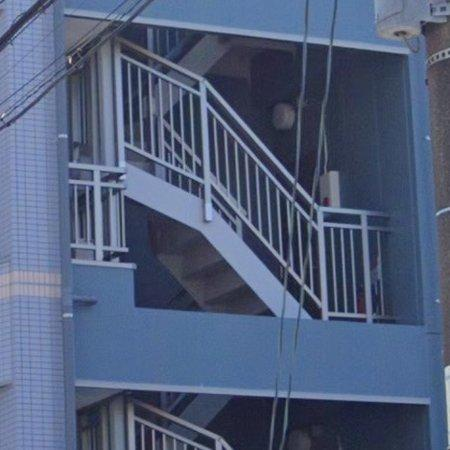stairs: (116, 40, 394, 323)
